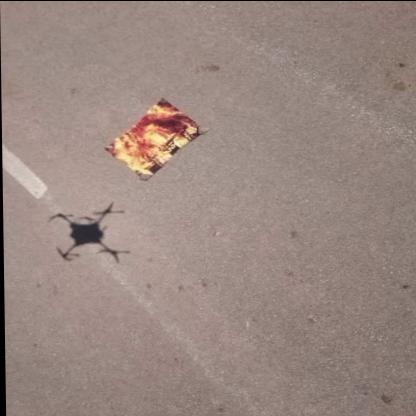fire-poster: (102, 96, 209, 181)
